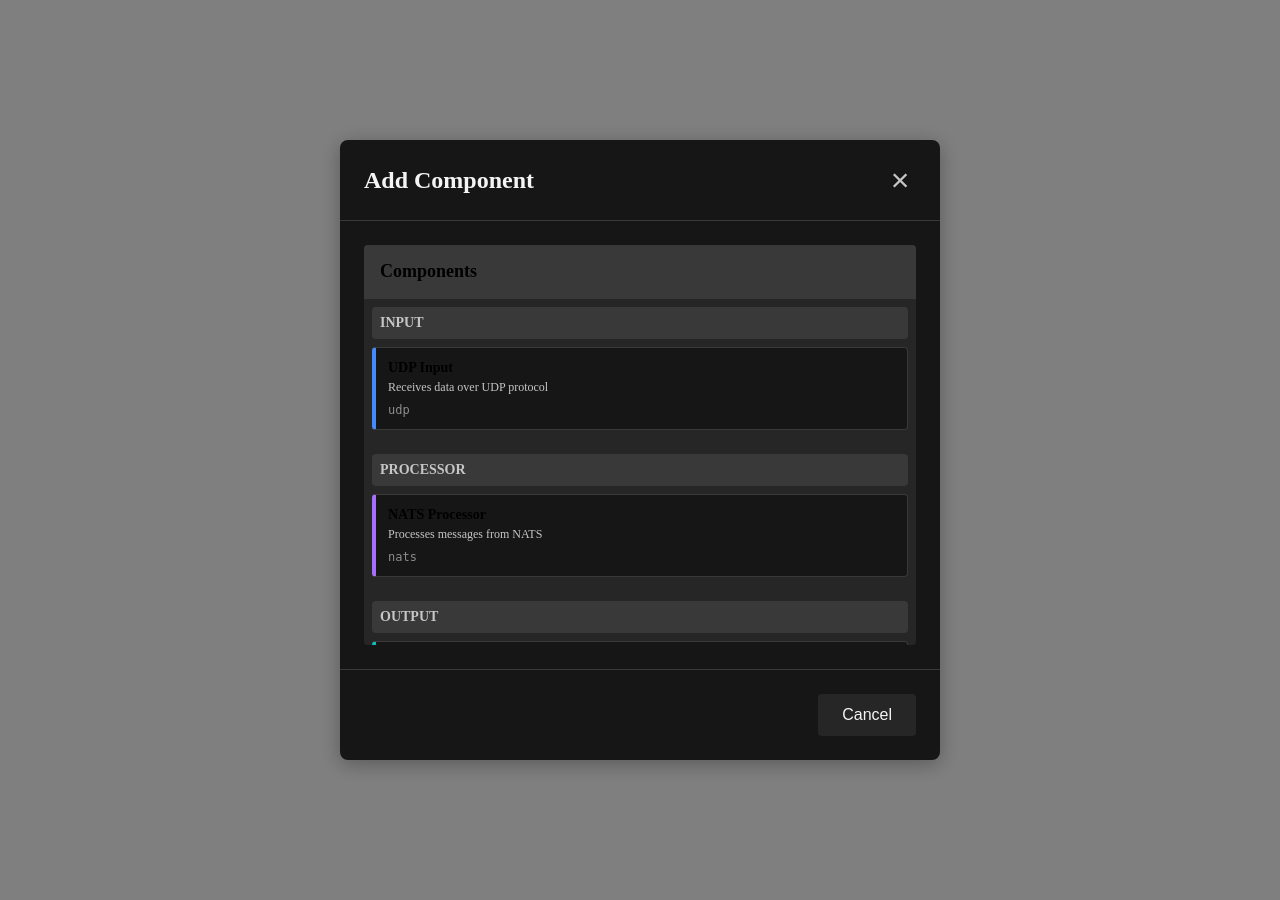
Test: AddComponentModal › Component Type Selection › should return to palette when back button is clicked
Double-click the button "UDP Input Receives data over UDP protocol udp": [420, 368] box [372, 347, 908, 430]
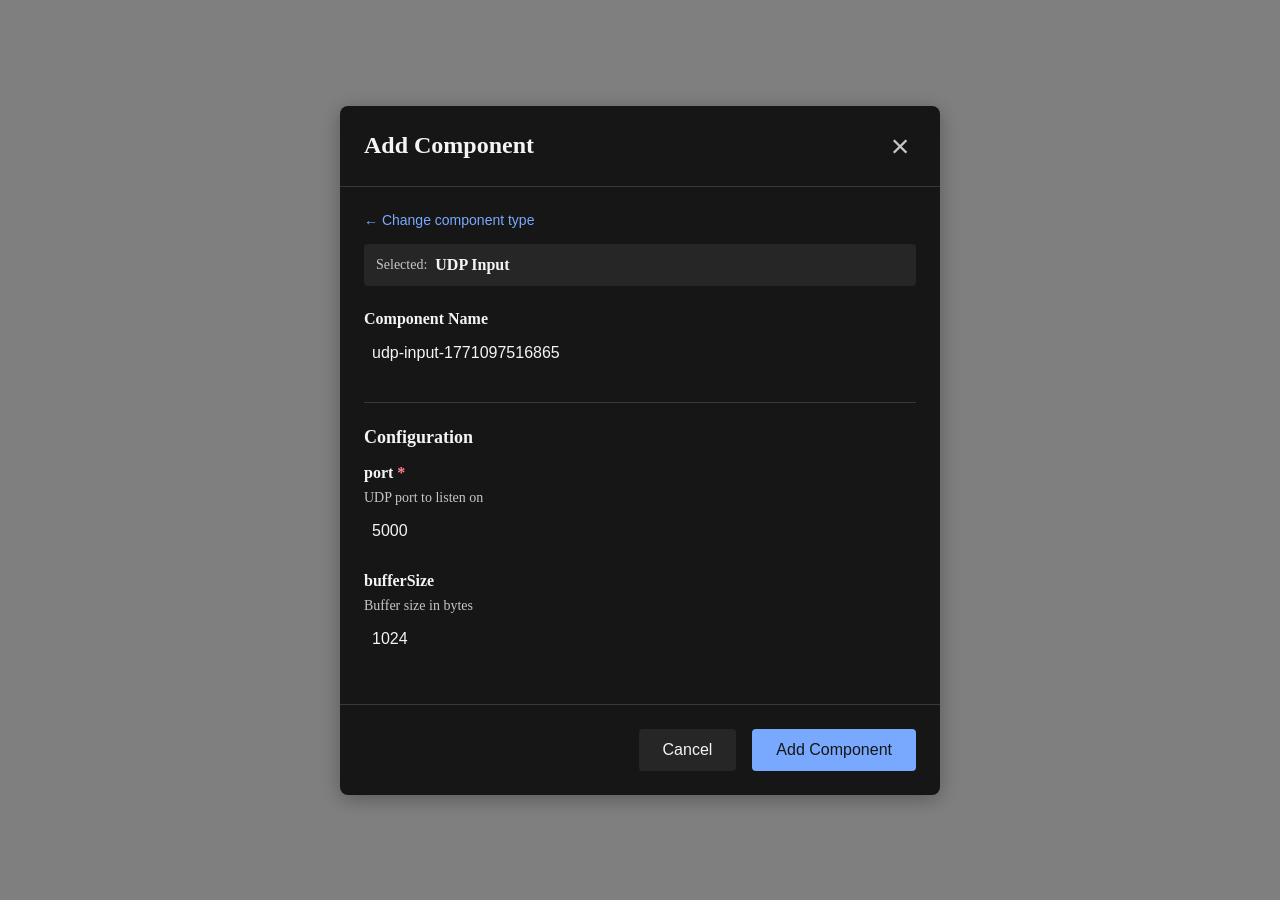
Expected: the field named "name" is shown, [364, 336, 932, 370]
Click the button with class "back-button": [449, 220] box [364, 212, 534, 228]
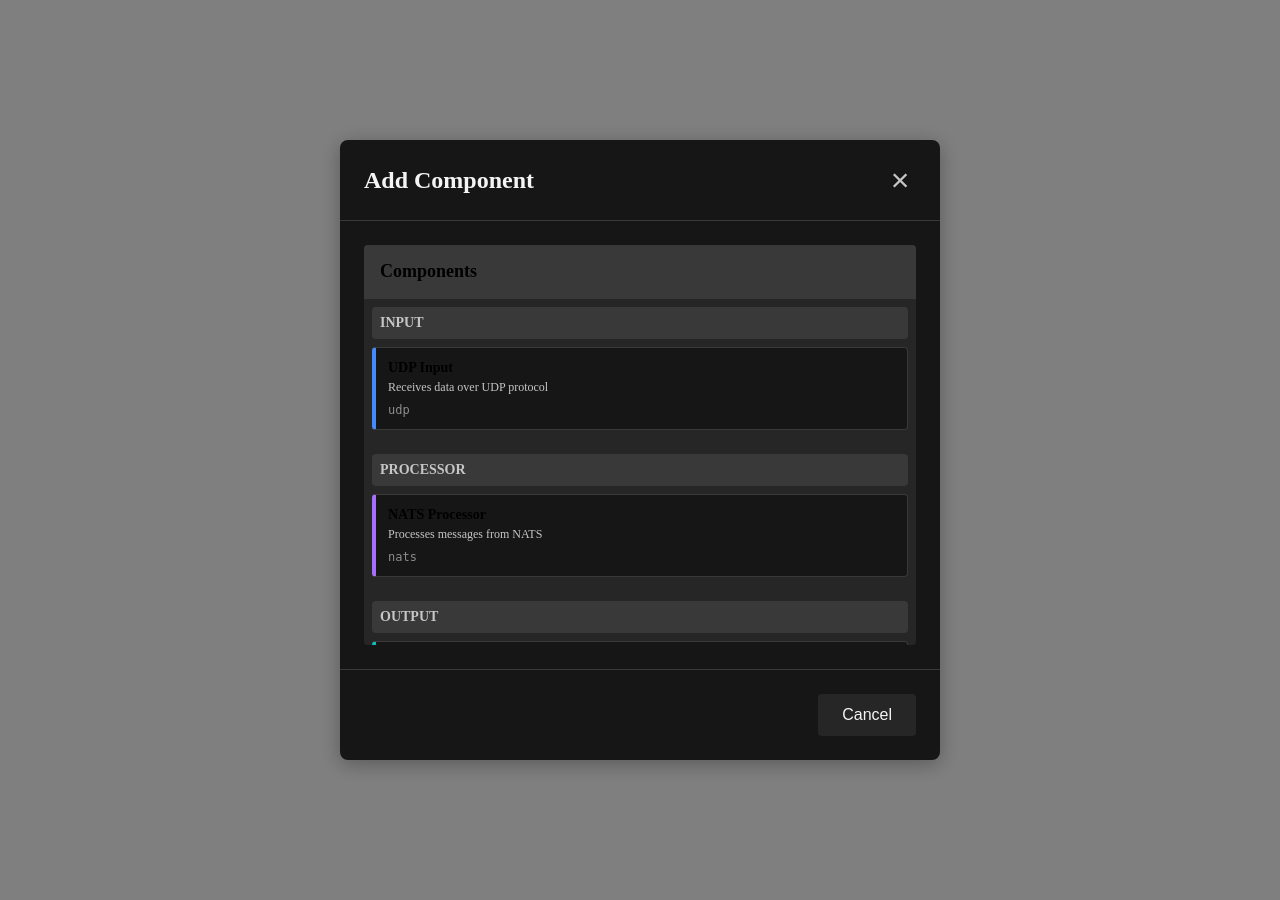
Expected: the element that starts with "Components" is shown, [364, 245, 916, 645]
Expected: the label named "name" is gone
